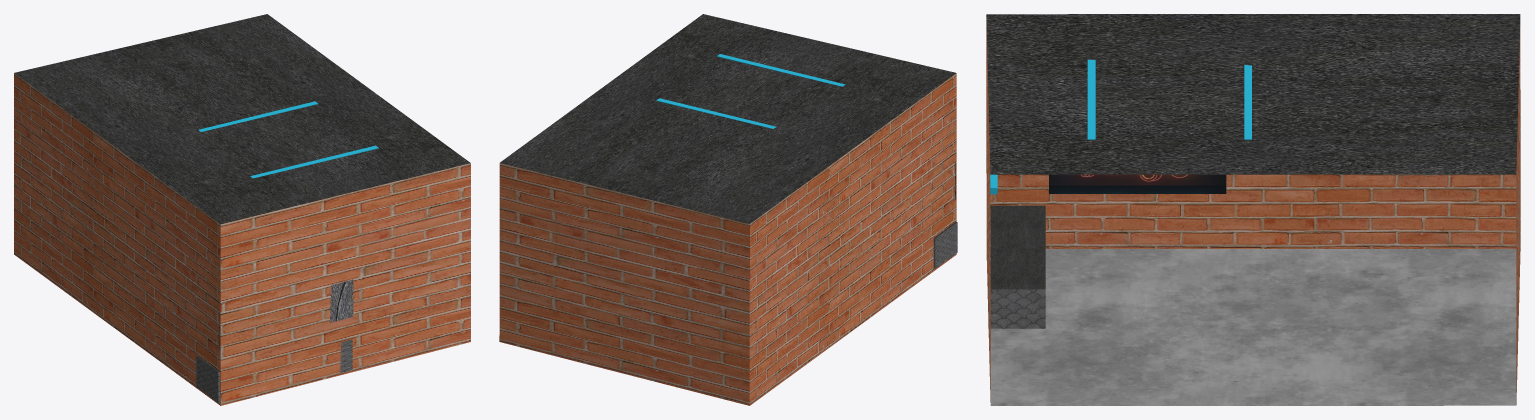
File: Garage.fbx
The picture shows the model from 3 angles, left to right: view 1: azimuth 30°, elevation 25°; view 2: azimuth 150°, elevation 25°; view 3: azimuth 270°, elevation 25°; orthographic projection. The views are drawn at different scales.
Visible parts, largest first — view 1: Cubo, Cube.003, Cube.006, Cube.004; view 2: Cubo, Cube.006, Cube.003; view 3: Cubo, Cube.003, Cube.005, Cube.006.
Part boxes in pixels (x1,y1,x2,y2): Cubo: (14,14,470,405); Cube.003: (196,339,352,402); Cube.006: (198,101,378,178); Cube.004: (219,279,353,349); Cubo: (499,14,956,405); Cube.006: (656,54,845,128); Cube.003: (933,222,957,268); Cubo: (986,14,1520,405); Cube.003: (988,205,1045,328); Cube.005: (1049,174,1226,193); Cube.006: (990,59,1251,194).
Bounding box in the file's own units: 897 × 615 × 1267.
Materials: 7 (6 with a texture image).
